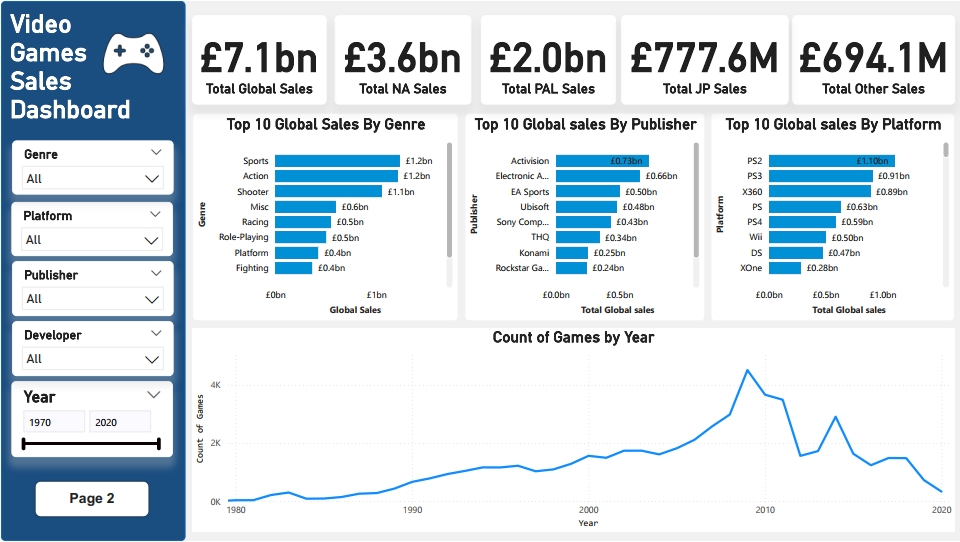

What the dashboard file says about the page in this screenshot:
{"tool":"powerbi","page":{"name":"Page 1","canvas":[1280,720],"ordinal":0},"visuals":[{"type":"card","fields":{"Values":["vgsales-12-4-2019.Global_sales_in_millions"]},"box":[276.5,89.5,215.5,119],"z":1000},{"type":"card","fields":{"Values":["vgsales-12-4-2019.Total Other Sales"]},"box":[1040.1,89.5,225.7,119],"z":2000},{"type":"card","fields":{"Values":["vgsales-12-4-2019.Total PAL Sales"]},"box":[787.9,89.5,215.5,119],"z":3000},{"type":"card","fields":{"Values":["vgsales-12-4-2019.Total NA Sales"]},"box":[532.7,89.5,215.5,119],"z":4000},{"type":"barChart","title":"Top 10 Global Sales By Genre","fields":{"Category":["vgsales-12-4-2019.Genre"],"Y":["Sum(vgsales-12-4-2019.Global_Sales in Millions)"]},"box":[24.4,392.4,420.9,317.2],"z":5000},{"type":"card","fields":{"Values":["CountNonNull(vgsales-12-4-2019.Name)"]},"box":[24.4,89.5,215.5,119],"z":6000},{"type":"slicer","fields":{"Values":["vgsales-12-4-2019.Genre"]},"box":[276.5,230.8,215.5,144.4],"z":7000},{"type":"slicer","fields":{"Values":["vgsales-12-4-2019.Publisher"]},"box":[531.7,230.8,216.6,144.4],"z":8000},{"type":"slicer","fields":{"Values":["vgsales-12-4-2019.Platform"]},"box":[787.9,230.8,215.5,144.4],"z":9000},{"type":"slicer","fields":{"Values":["vgsales-12-4-2019.ESRB_Rating"]},"box":[1040.1,230.8,225.7,144.4],"z":10000},{"type":"slicer","fields":{"Values":["vgsales-12-4-2019.Year"]},"box":[24.4,230.8,221.6,144.4],"z":11000},{"type":"barChart","title":"Top 10 Global sales By Publisher","fields":{"Category":["vgsales-12-4-2019.Publisher"],"Y":["vgsales-12-4-2019.Total Global sales"]},"box":[453.4,392.4,432.1,317.2],"z":12000},{"type":"barChart","title":"Top 10 Global sales By Platform","fields":{"Category":["vgsales-12-4-2019.Platform"],"Y":["vgsales-12-4-2019.Total Global sales"]},"box":[895.7,392.4,373.1,317.2],"z":13000},{"type":"textbox","box":[0,0,1280,77.1],"z":13500},{"type":"pageNavigator","box":[869.2,6.3,400.1,63.7],"z":14000}]}

Visuals, with their boxes in screenshot pixels (x1, y1, x2, y2), scaled from the page's 1280x720 canvas onto the 960x542 screenshot:
card - vgsales-12-4-2019.Global_sales_in_millions: x1=207 y1=67 x2=369 y2=157
card - vgsales-12-4-2019.Total Other Sales: x1=780 y1=67 x2=949 y2=157
card - vgsales-12-4-2019.Total PAL Sales: x1=591 y1=67 x2=753 y2=157
card - vgsales-12-4-2019.Total NA Sales: x1=400 y1=67 x2=561 y2=157
"Top 10 Global Sales By Genre" barChart: x1=18 y1=295 x2=334 y2=534
card - CountNonNull(vgsales-12-4-2019.Name): x1=18 y1=67 x2=180 y2=157
slicer - vgsales-12-4-2019.Genre: x1=207 y1=174 x2=369 y2=282
slicer - vgsales-12-4-2019.Publisher: x1=399 y1=174 x2=561 y2=282
slicer - vgsales-12-4-2019.Platform: x1=591 y1=174 x2=753 y2=282
slicer - vgsales-12-4-2019.ESRB_Rating: x1=780 y1=174 x2=949 y2=282
slicer - vgsales-12-4-2019.Year: x1=18 y1=174 x2=184 y2=282
"Top 10 Global sales By Publisher" barChart: x1=340 y1=295 x2=664 y2=534
"Top 10 Global sales By Platform" barChart: x1=672 y1=295 x2=952 y2=534
textbox: x1=0 y1=0 x2=959 y2=58
pageNavigator: x1=652 y1=5 x2=952 y2=53
